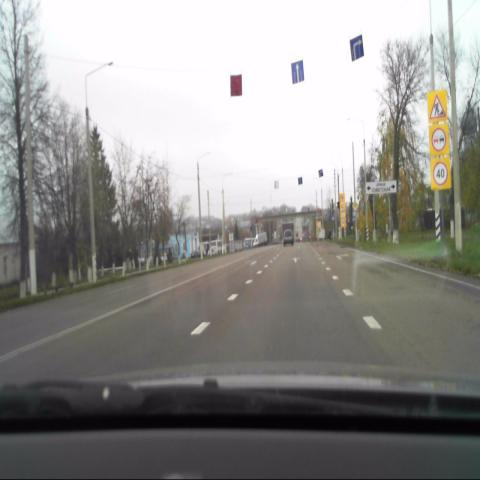1_25: (428, 90, 448, 120)
3_24: (432, 158, 452, 192)
